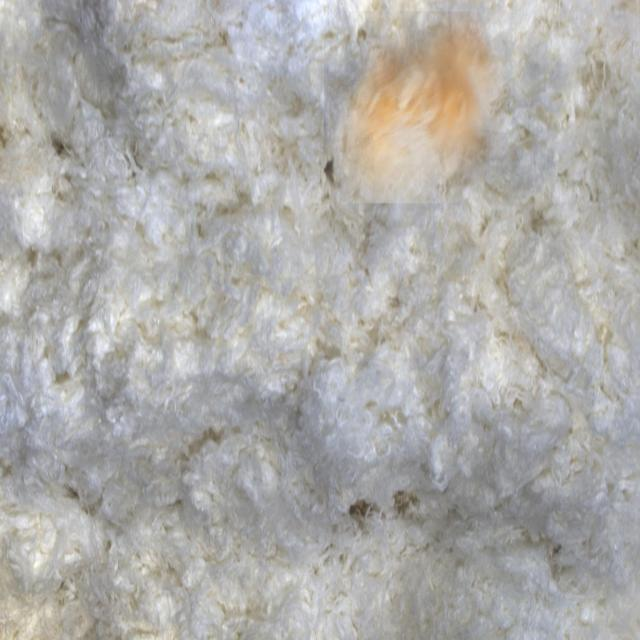dust: (324, 12, 504, 204)
